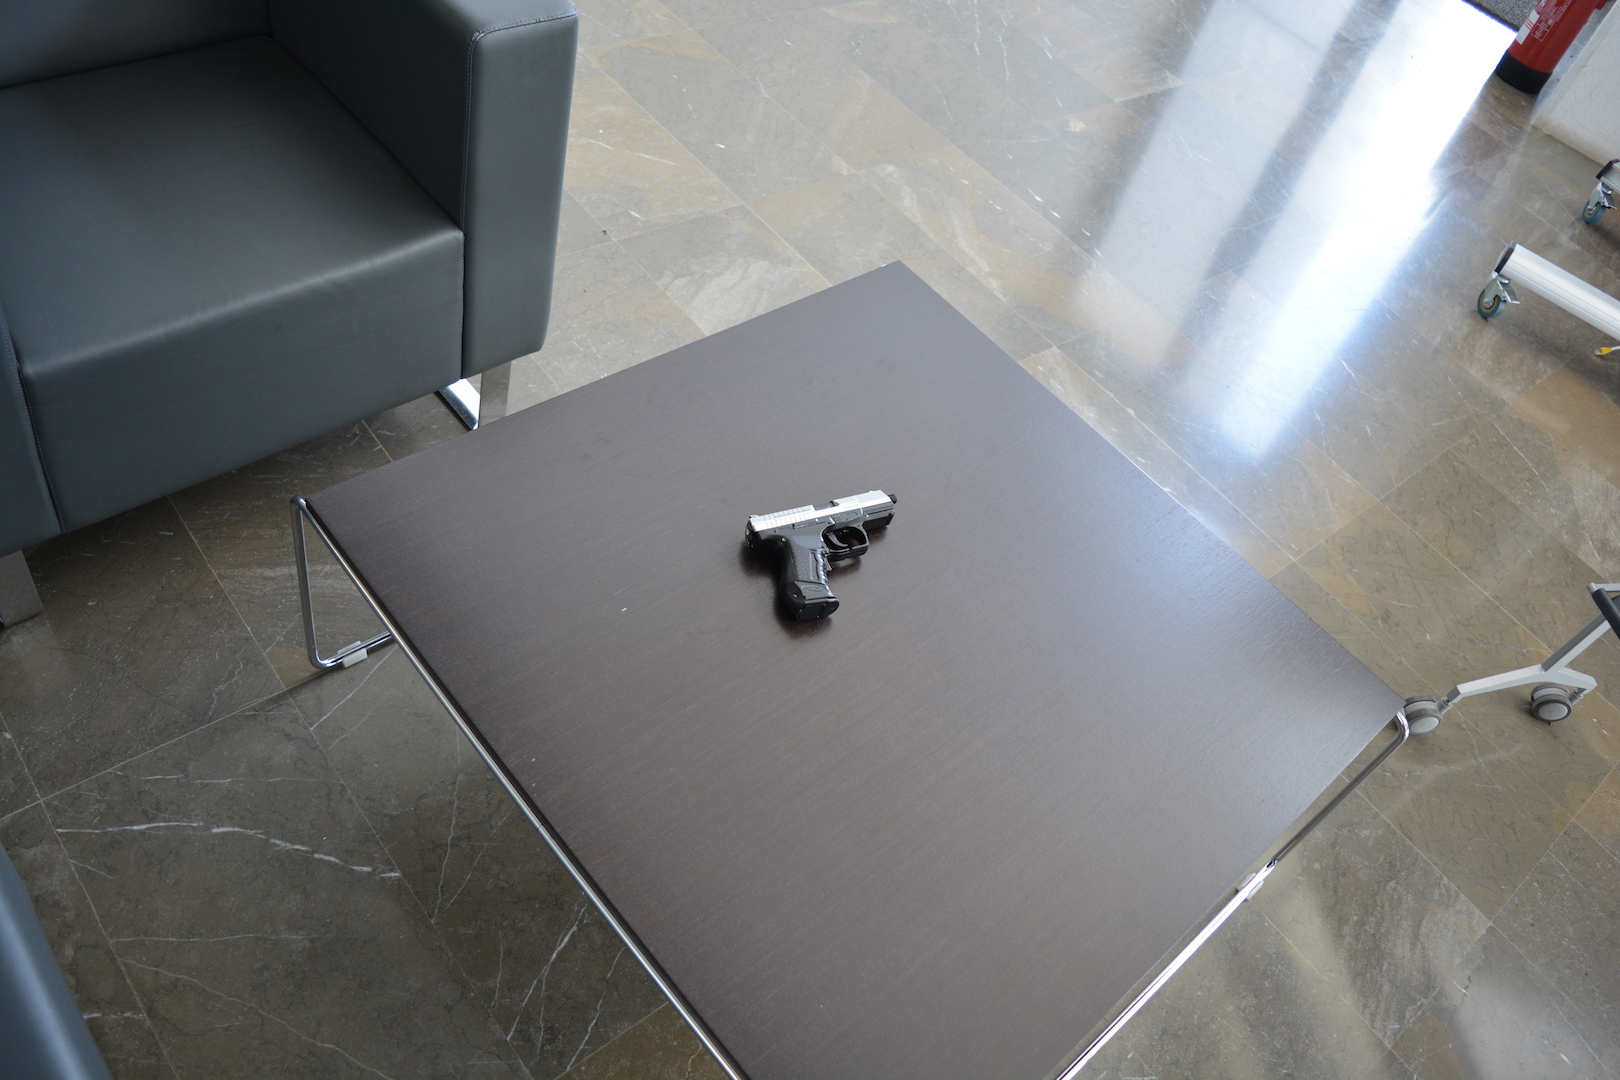pistol: (744, 489, 898, 621)
